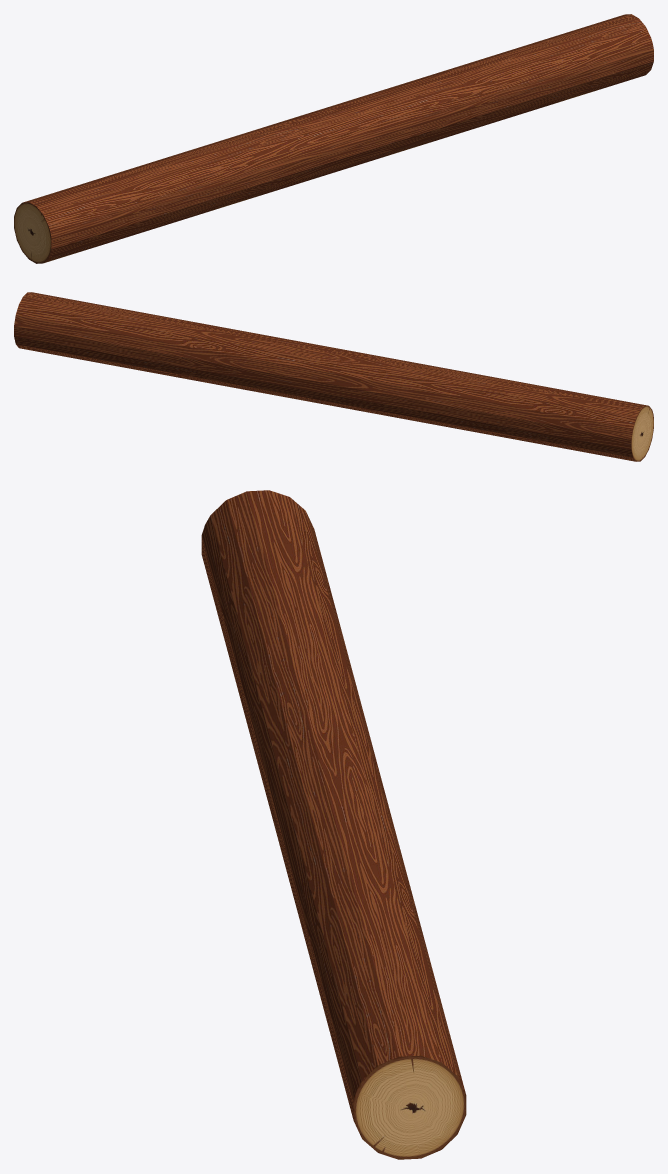
Rendered from Low_Poly_Log.fbx.
3 views of the same model, one above another, from view 1: azimuth 30°, elevation 25°; view 2: azimuth 150°, elevation 25°; view 3: azimuth 270°, elevation 25° (orthographic). The views are drawn at different scales.
Parts seen in each view (by area): view 1: Log; view 2: Log; view 3: Log.
Part boxes in pixels (left/top/right/bottom): Log: left=14, top=14, right=653, bottom=263; Log: left=14, top=292, right=653, bottom=461; Log: left=201, top=490, right=466, bottom=1159.
Size of the model in its own units: 378 by 31.8 by 74.
1 material, 1 textured.
